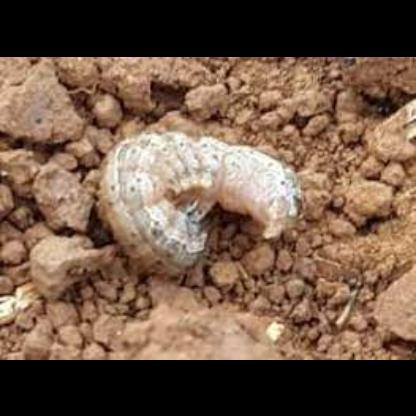oruga: (102, 117, 306, 275)
